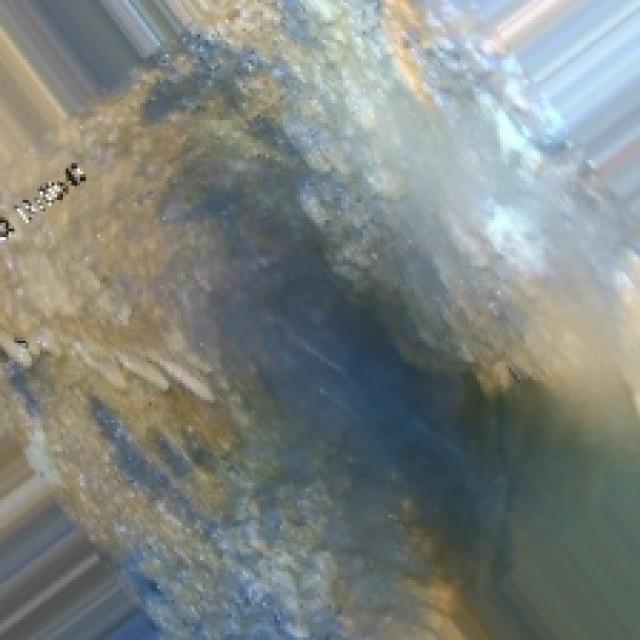encrustation: (89, 117, 572, 469)
